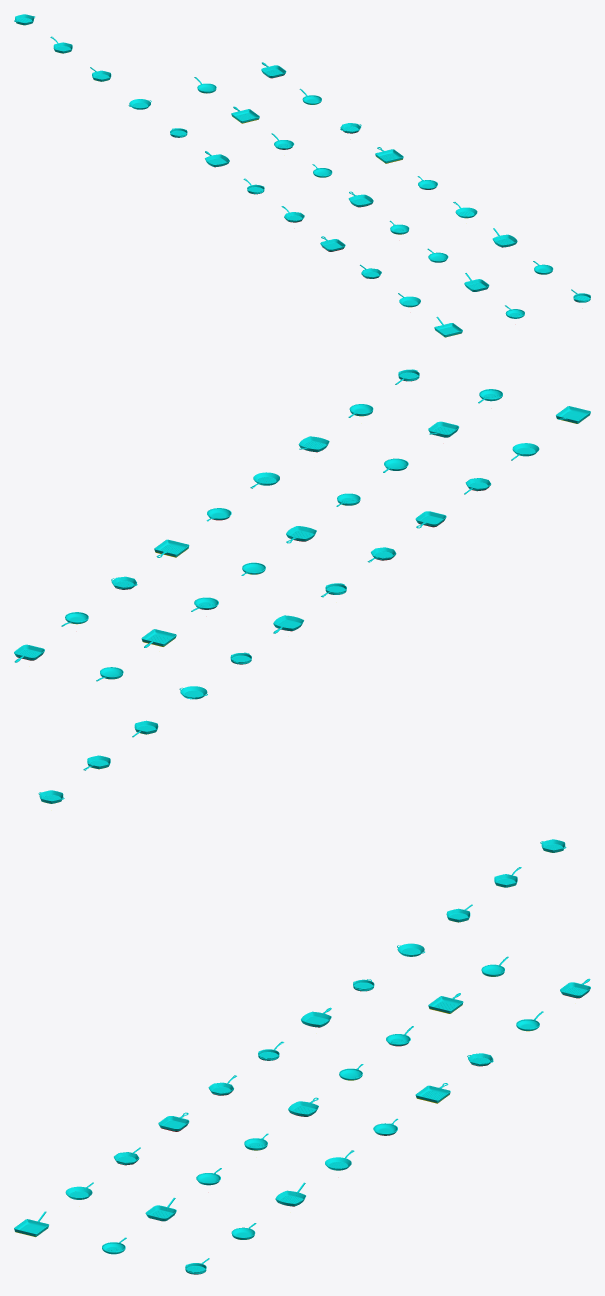
Rendered from pans_grp.fbx.
The picture shows the model from 3 angles, top to bottom: view 1: azimuth 30°, elevation 25°; view 2: azimuth 150°, elevation 25°; view 3: azimuth 330°, elevation 25°; orthographic projection. The views are drawn at different scales.
Size of the model in its own units: 232 by 22.79 by 1127.
